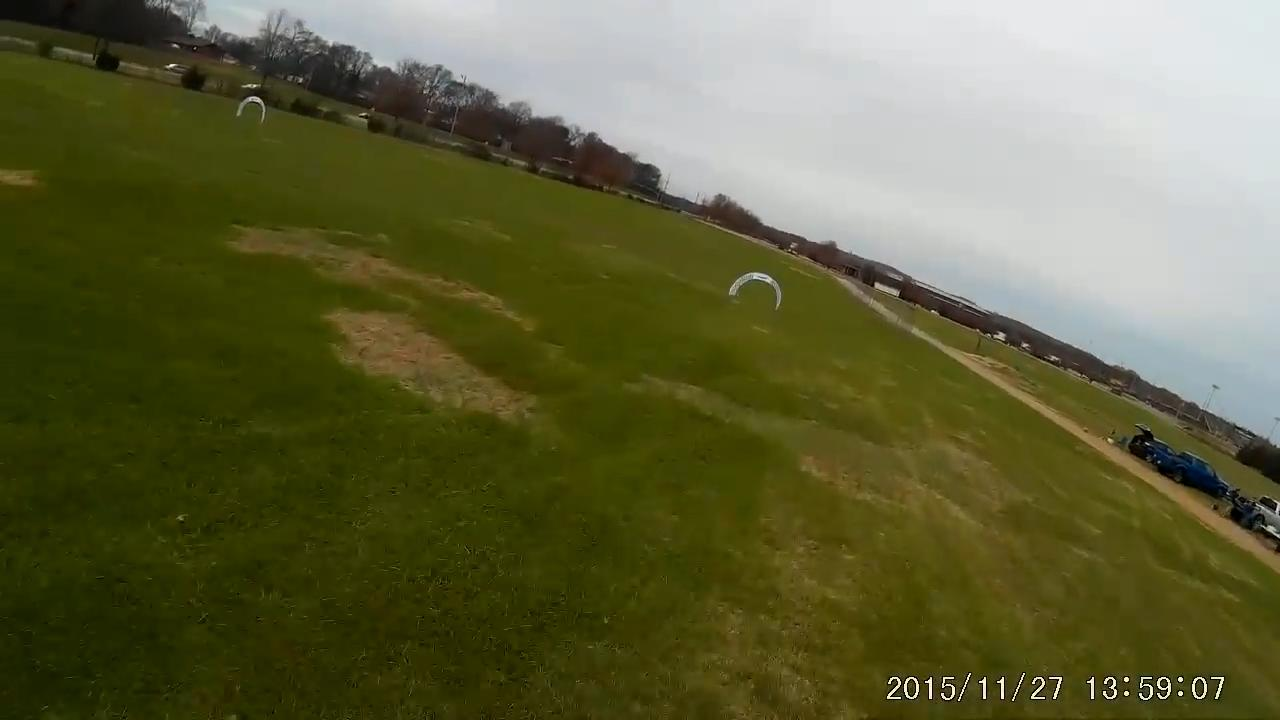gate: (725, 271, 782, 315)
